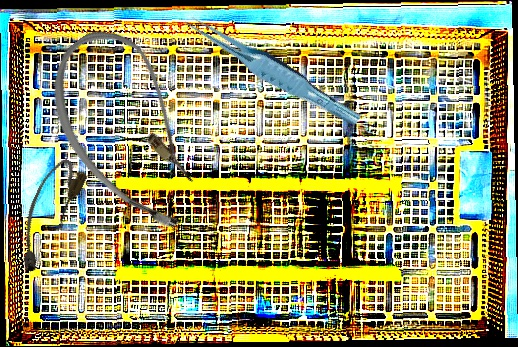Cannula: (22, 13, 239, 247), (3, 153, 91, 278)
Tissue Forceps: (182, 0, 363, 139)
